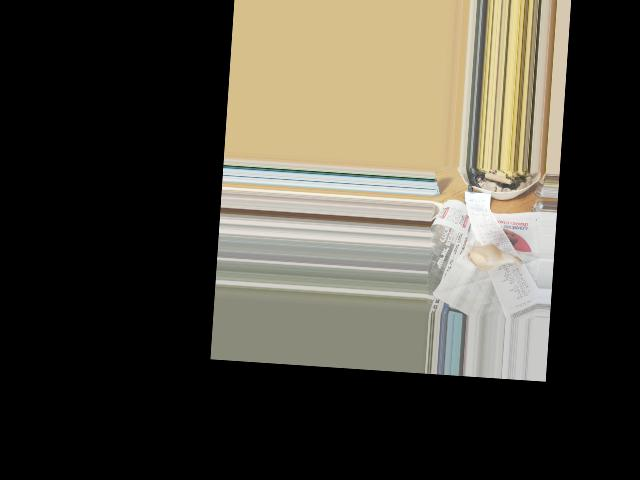onion: (463, 245, 507, 271)
